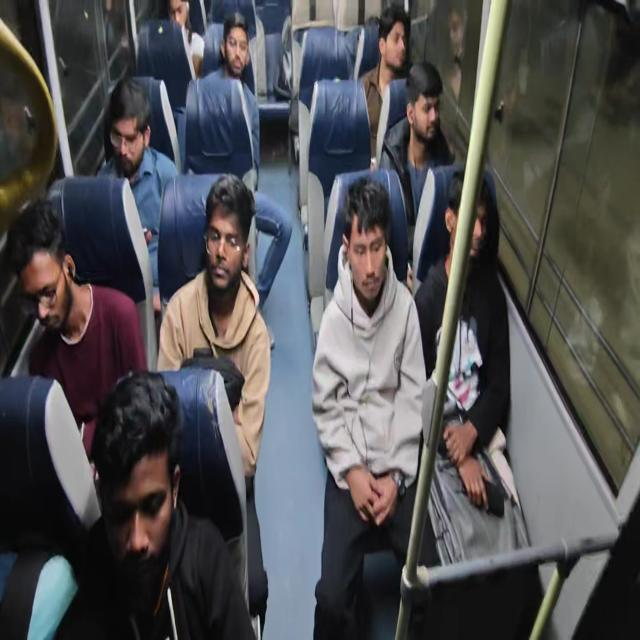person: (58, 377, 245, 640), (103, 79, 186, 237), (436, 186, 524, 306), (184, 195, 240, 325), (19, 199, 75, 324), (348, 195, 397, 323), (376, 11, 426, 83), (421, 74, 461, 162), (222, 20, 260, 86), (162, 0, 206, 52)
